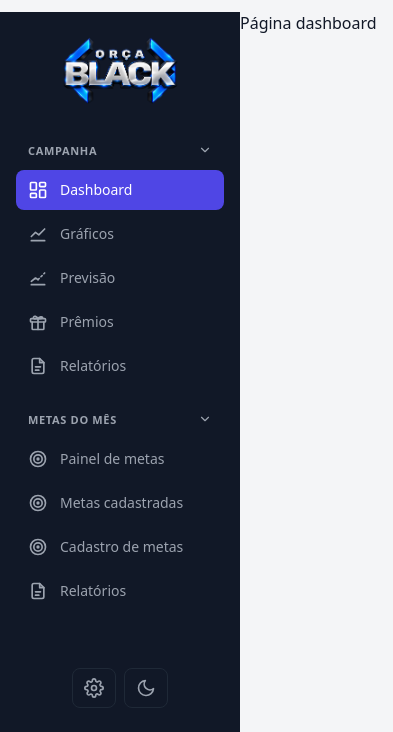
Test: AdminLayout › o menu da engrenagem fecha no Esc e clicando fora
Click the button named "Administração" at point(94, 688), box [72, 668, 116, 708]
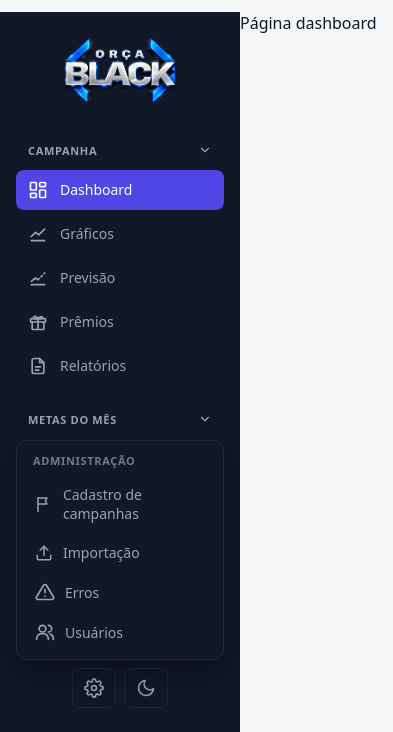
Press Escape
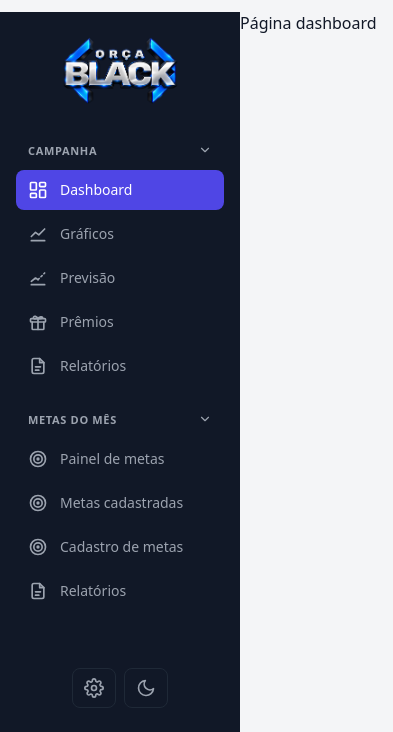
expect the menu is gone: met
Click the button named "Administração" at point(94, 688), box [72, 668, 116, 708]
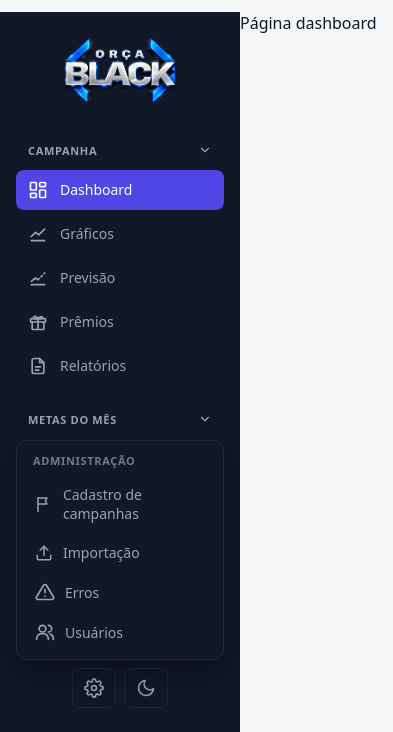
Press the mouse on the text "Página dashboard" at point(308, 23), box [240, 12, 377, 34]
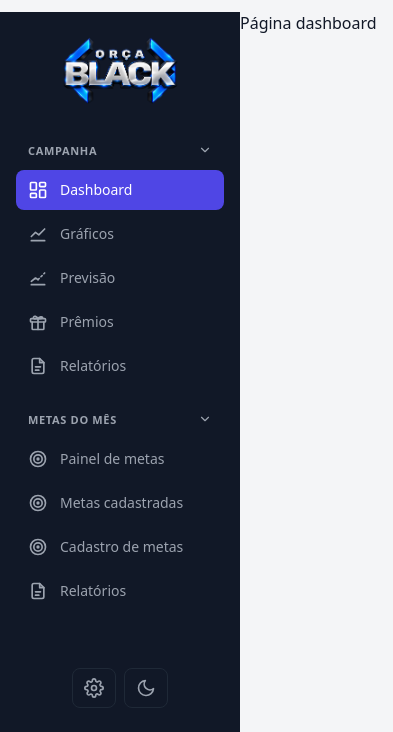
expect the menu is gone: met
